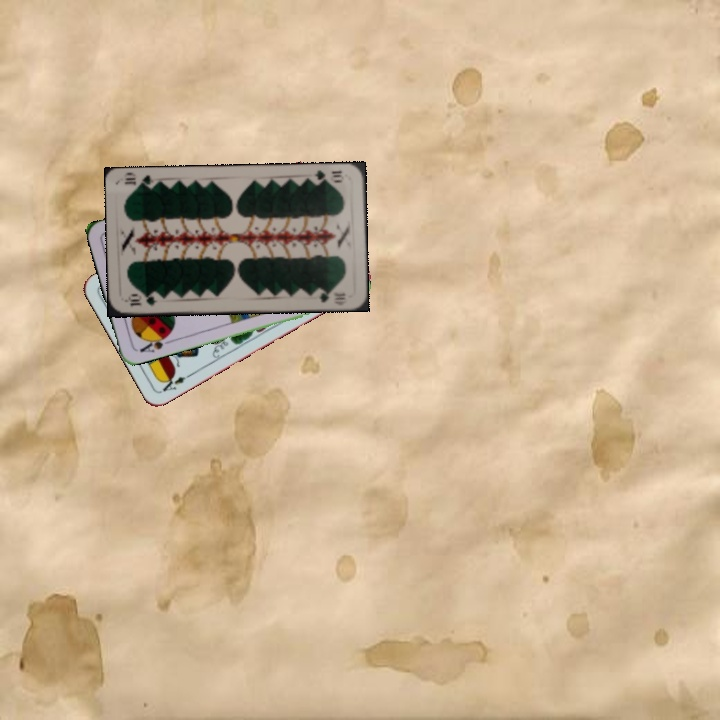EA: (157, 369, 194, 395)
G10: (311, 166, 346, 186), (123, 291, 161, 309)
SA: (135, 330, 174, 355)
